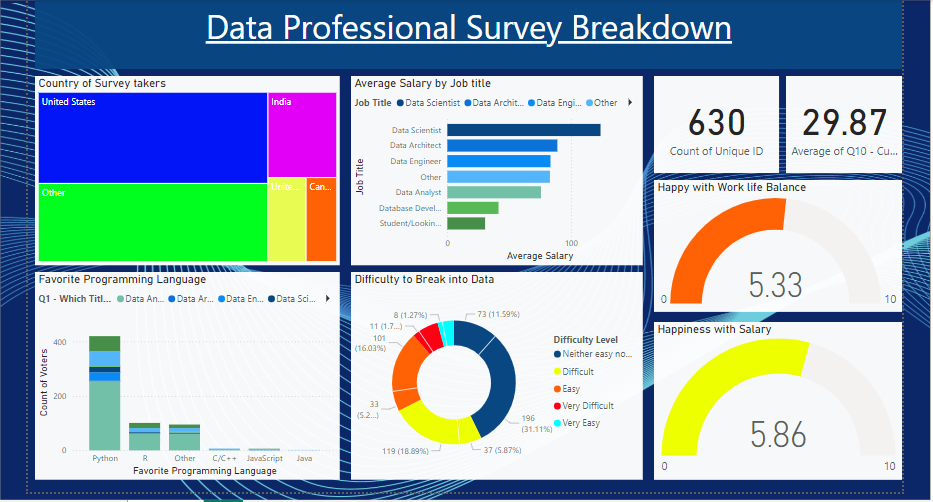

This screenshot's page, from the dashboard's own definition file:
{"tool":"powerbi","page":{"name":"Page 1","canvas":[1280,720],"ordinal":0},"visuals":[{"type":"textbox","box":[10.1,0,1269.9,100.8],"z":0},{"type":"card","fields":{"Values":["CountNonNull(working sheet.Unique ID)"]},"box":[916.1,111.2,182.9,142],"z":1000},{"type":"card","fields":{"Values":["Avg(working sheet.Q10 - Current Age)"]},"box":[1109.3,111.2,171.2,142],"z":2000},{"type":"barChart","title":"Average Salary by Job title","fields":{"Category":["working sheet.Q1 - Which Title Best Fits your Current Role?.1"],"Y":["Avg(working sheet.Average Salary)"],"Series":["working sheet.Q1 - Which Title Best Fits your Current Role?.1"]},"box":[472.7,111.2,427.3,276.6],"z":3000},{"type":"columnChart","title":"Favorite Programming Language","fields":{"Category":["working sheet.Q5 - Favorite Programming Language.1"],"Y":["CountNonNull(working sheet.Unique ID)"],"Series":["working sheet.Q1 - Which Title Best Fits your Current Role?.1"]},"box":[10.2,398,446.3,304.4],"z":4000},{"type":"treemap","title":"Country of Survey takers","fields":{"Group":["working sheet.Q11 - Which Country do you live in?.1"],"Values":["CountNonNull(working sheet.Q11 - Which Country do you live in?.1)"]},"box":[10.2,111.2,446.3,276.6],"z":5000},{"type":"gauge","title":"Happy with Work life Balance","fields":{"Y":["Avg(working sheet.Q6 - How Happy are you in your Current Position with the following? (Management))"],"MinValue":["Min(working sheet.Q6 - How Happy are you in your Current Position with the following? (Salary))"],"MaxValue":["Max(working sheet.Q6 - How Happy are you in your Current Position with the following? (Upward Mobility))"]},"box":[916.1,263.4,364.4,193.2],"z":7000},{"type":"gauge","title":"Happiness with Salary","fields":{"Y":["Avg(working sheet.Q6 - How Happy are you in your Current Position with the following? (Coworkers))"],"MinValue":["Min(working sheet.Q6 - How Happy are you in your Current Position with the following? (Learning New Things))"],"MaxValue":["Max(working sheet.Q6 - How Happy are you in your Current Position with the following? (Management))"]},"box":[916.1,471.2,364.4,231.2],"z":8000},{"type":"donutChart","title":"Difficulty to Break into Data","fields":{"Category":["working sheet.Q7 - How difficult was it for you to break into Data?"],"Series":["working sheet.Q9 - Male/Female?"],"Y":["CountNonNull(working sheet.Q7 - How difficult was it for you to break into Data?)"]},"box":[472.7,398,427.3,304.4],"z":8001}]}

Visuals, with their boxes in screenshot pixels (x1, y1, x2, y2):
textbox: box(29, 0, 904, 65)
card - CountNonNull(working sheet.Unique ID): box(653, 72, 779, 170)
card - Avg(working sheet.Q10 - Current Age): box(786, 72, 904, 170)
"Average Salary by Job title" barChart: box(348, 72, 642, 262)
"Favorite Programming Language" columnChart: box(29, 269, 336, 479)
"Country of Survey takers" treemap: box(29, 72, 336, 262)
"Happy with Work life Balance" gauge: box(653, 177, 904, 310)
"Happiness with Salary" gauge: box(653, 320, 904, 479)
"Difficulty to Break into Data" donutChart: box(348, 269, 642, 479)
